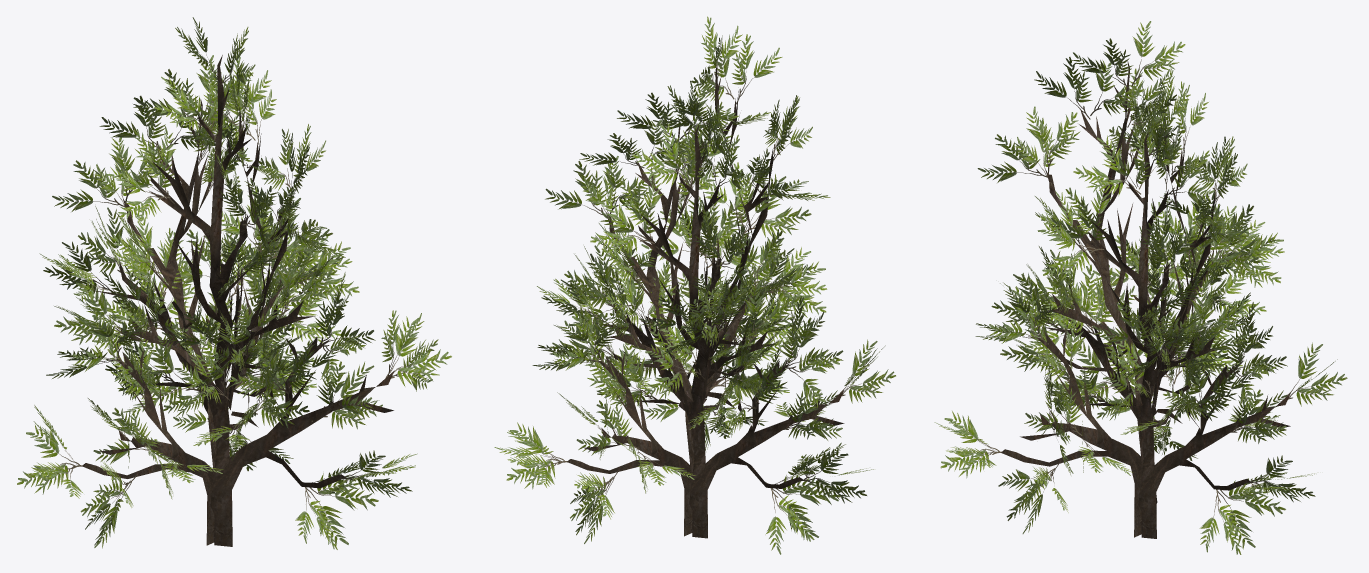
The model's file is tree_lod2.glb.
The picture shows the model from 3 angles, left to right: view 1: azimuth 30°, elevation 25°; view 2: azimuth 150°, elevation 25°; view 3: azimuth 270°, elevation 25°; orthographic projection. The views are drawn at different scales.
Parts seen in each view (by area): view 1: Object_5406.001, Object_5404.001; view 2: Object_5406.001, Object_5404.001; view 3: Object_5406.001, Object_5404.001.
Boxes of the visible parts, x1,y1,x2,y2 form: Object_5406.001: [17, 17, 451, 549]; Object_5404.001: [82, 55, 394, 546]; Object_5406.001: [494, 16, 895, 554]; Object_5404.001: [567, 57, 844, 538]; Object_5406.001: [934, 21, 1347, 554]; Object_5404.001: [1001, 61, 1290, 538].
Bounding box in the file's own units: 13.19 × 18.09 × 13.66.
2 materials, 2 textured.
